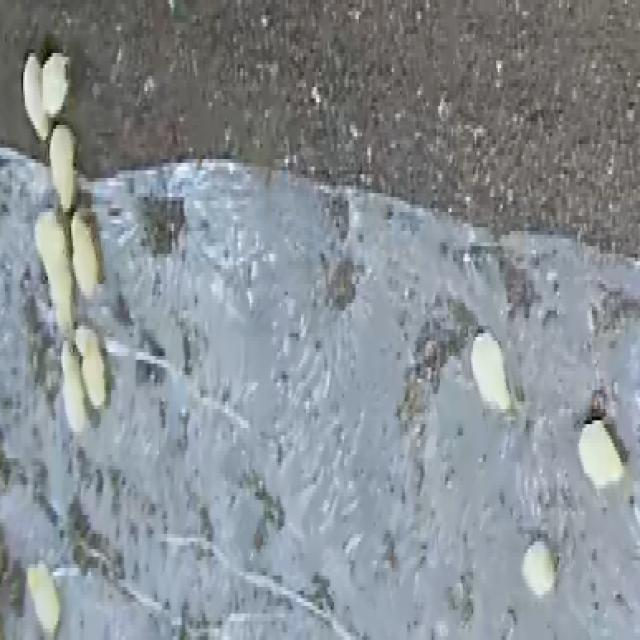broiler: (470, 333, 511, 409), (577, 420, 623, 485), (26, 560, 60, 636), (71, 212, 101, 295), (76, 326, 106, 405), (61, 341, 88, 428), (50, 125, 76, 208), (35, 208, 66, 276), (23, 53, 48, 136), (521, 542, 556, 595), (50, 258, 74, 329), (41, 53, 68, 114)
